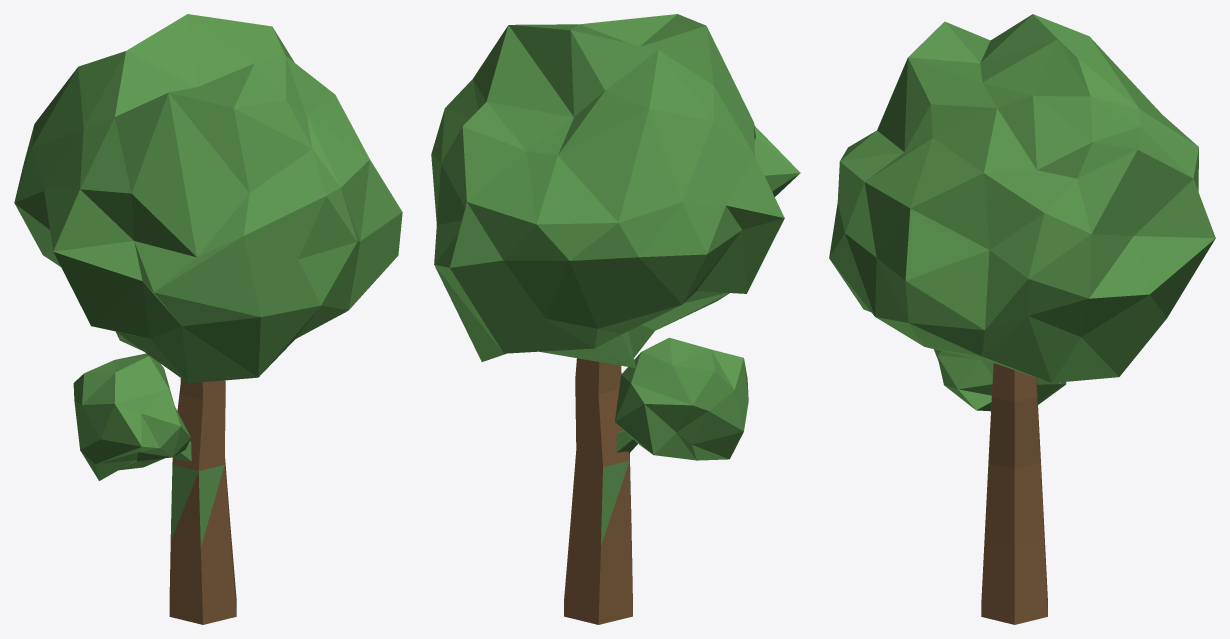
The model's file is tree3d-082.glb.
3 views of the same model, side by side, from view 1: azimuth 30°, elevation 25°; view 2: azimuth 150°, elevation 25°; view 3: azimuth 270°, elevation 25° (orthographic). The views are drawn at different scales.
Visible parts, largest first — view 1: tree3d-082; view 2: tree3d-082; view 3: tree3d-082.
Boxes of the visible parts, <box> form: tree3d-082: <box>14,14,402,624</box>; tree3d-082: <box>431,14,800,624</box>; tree3d-082: <box>829,14,1215,624</box>.
Bounding box in the file's own units: 0.5831 × 1 × 0.6129.
